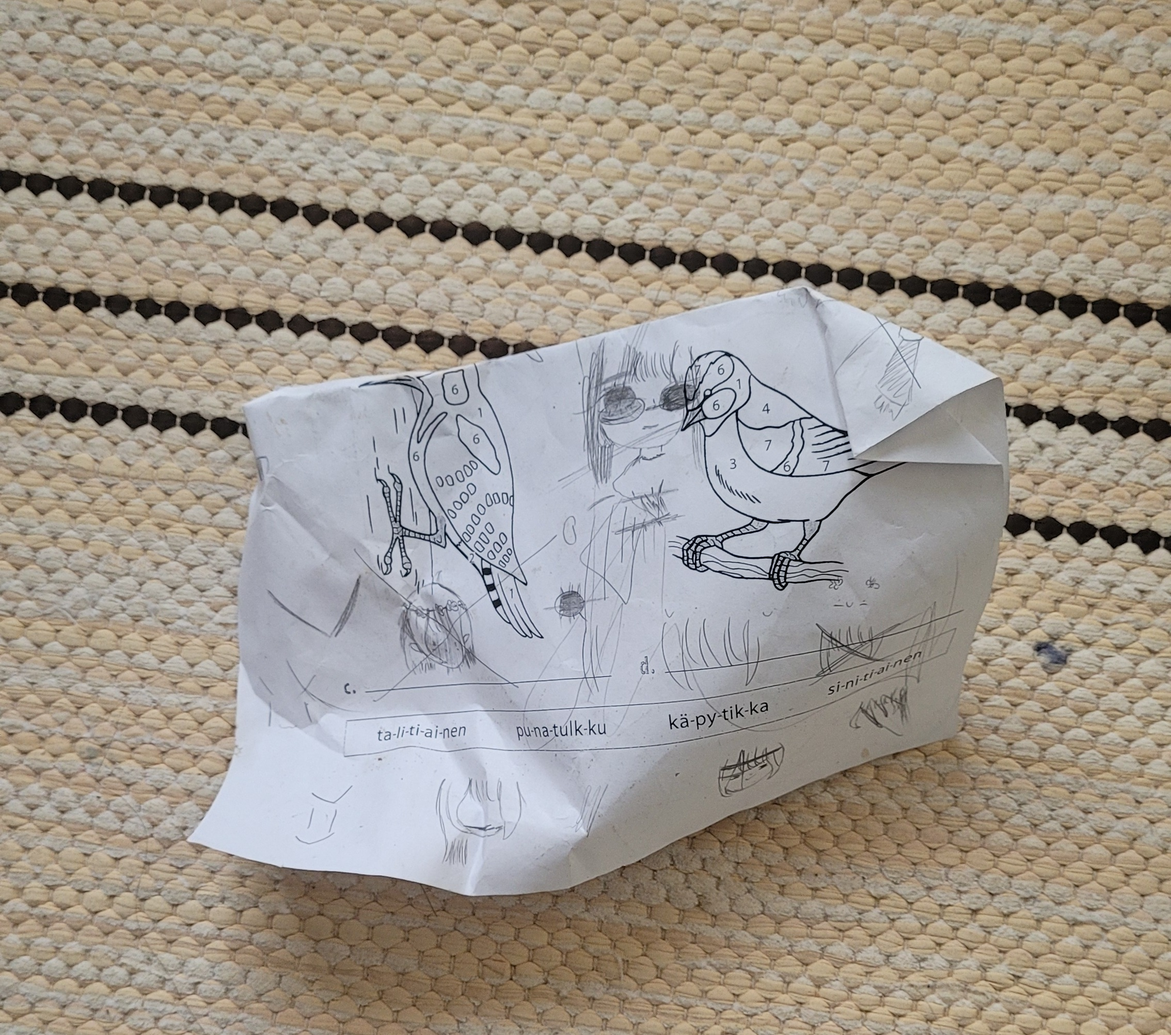paper: (179, 272, 1020, 913)
